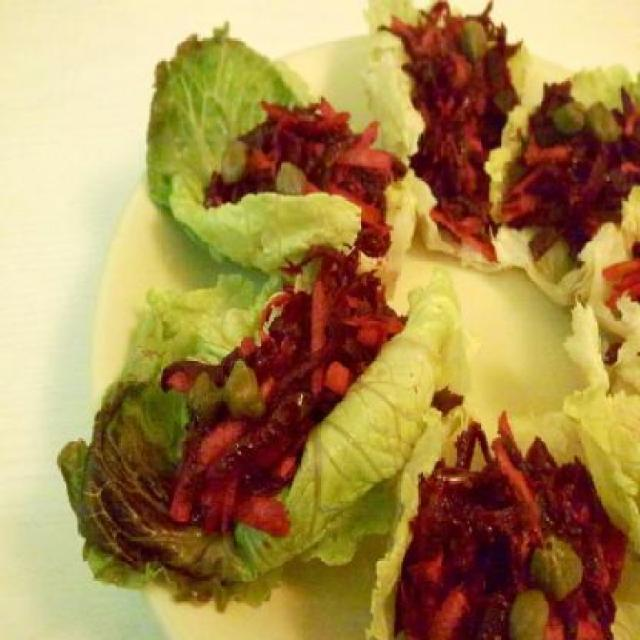Salad: (53, 0, 638, 638)
